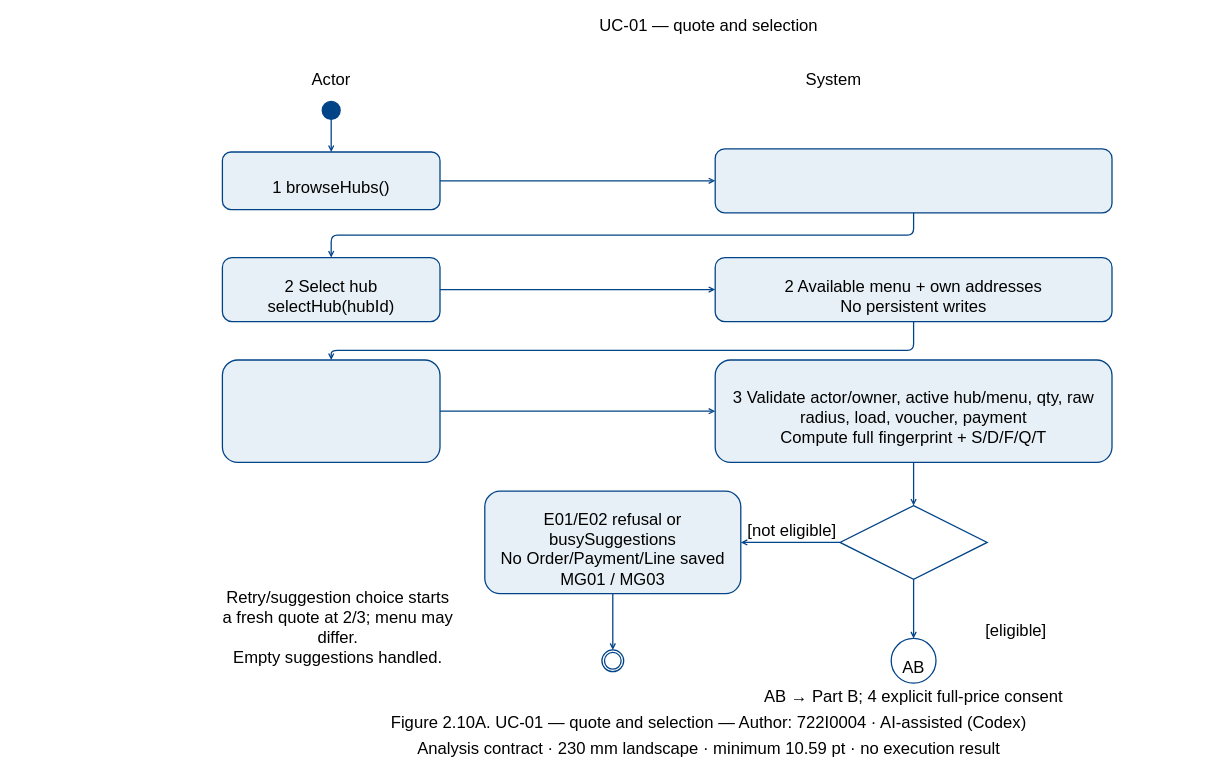
This 1219x769 diagram has some shape labels left out. The centre of each missing label's shape, as x and y in pixels:
"1 ACTIVE hubs, load/capacity No persistent writes" goes at pixel 913 180.
"3 Choose address, lines, voucher, payment requestQuote(...)" goes at pixel 330 411.
"Quote eligible?" goes at pixel 913 542.
